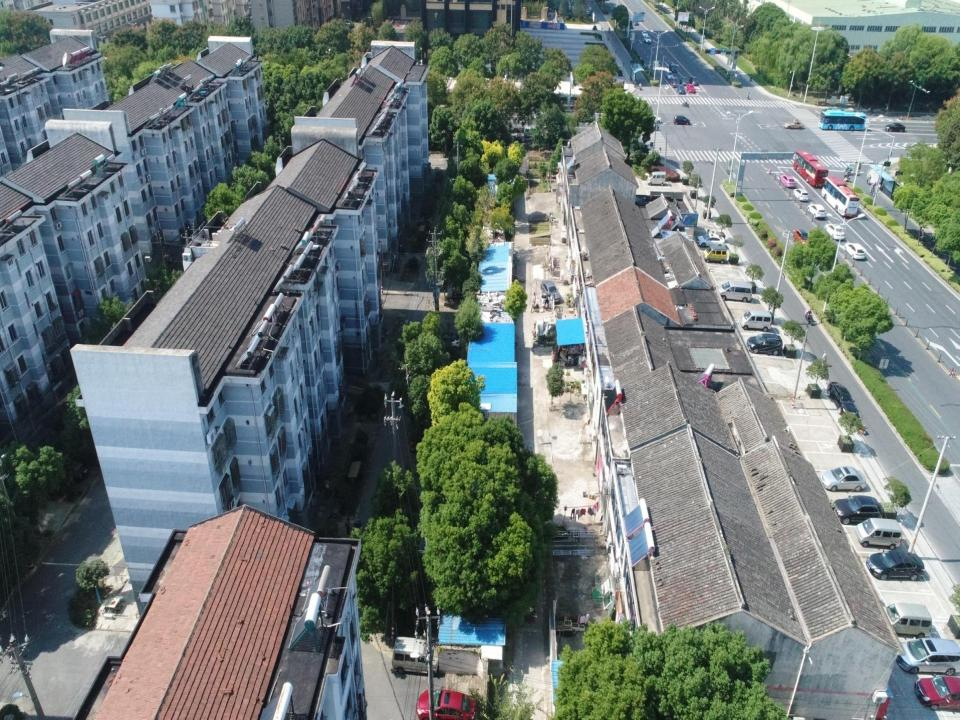bus: (822, 174, 860, 218), (791, 148, 828, 187), (817, 108, 867, 133)
car: (894, 633, 958, 676), (415, 686, 474, 720), (866, 548, 926, 580), (880, 602, 933, 638), (914, 676, 960, 709), (819, 462, 867, 492), (833, 493, 882, 522), (827, 379, 860, 421), (747, 333, 783, 353), (539, 278, 561, 308), (695, 231, 724, 248), (842, 240, 866, 260), (824, 222, 845, 240), (807, 201, 827, 219), (793, 226, 811, 245), (782, 117, 804, 131), (883, 122, 906, 135), (780, 173, 794, 190), (794, 185, 809, 200), (673, 114, 691, 126), (648, 113, 662, 123), (690, 74, 699, 86), (680, 76, 689, 87), (668, 65, 679, 74), (670, 76, 678, 88), (676, 85, 685, 95), (686, 84, 694, 93), (666, 70, 672, 80), (644, 36, 654, 42), (641, 31, 648, 37)
van: (392, 635, 440, 677), (855, 516, 905, 546), (716, 276, 751, 300), (740, 307, 775, 330), (702, 244, 725, 260), (645, 171, 666, 184)
